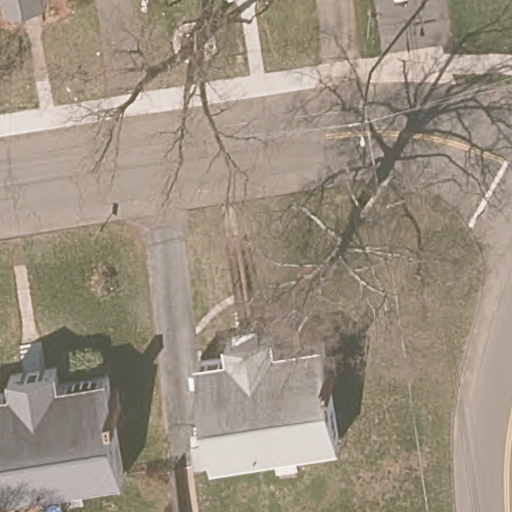DT: (354, 105, 378, 166)
